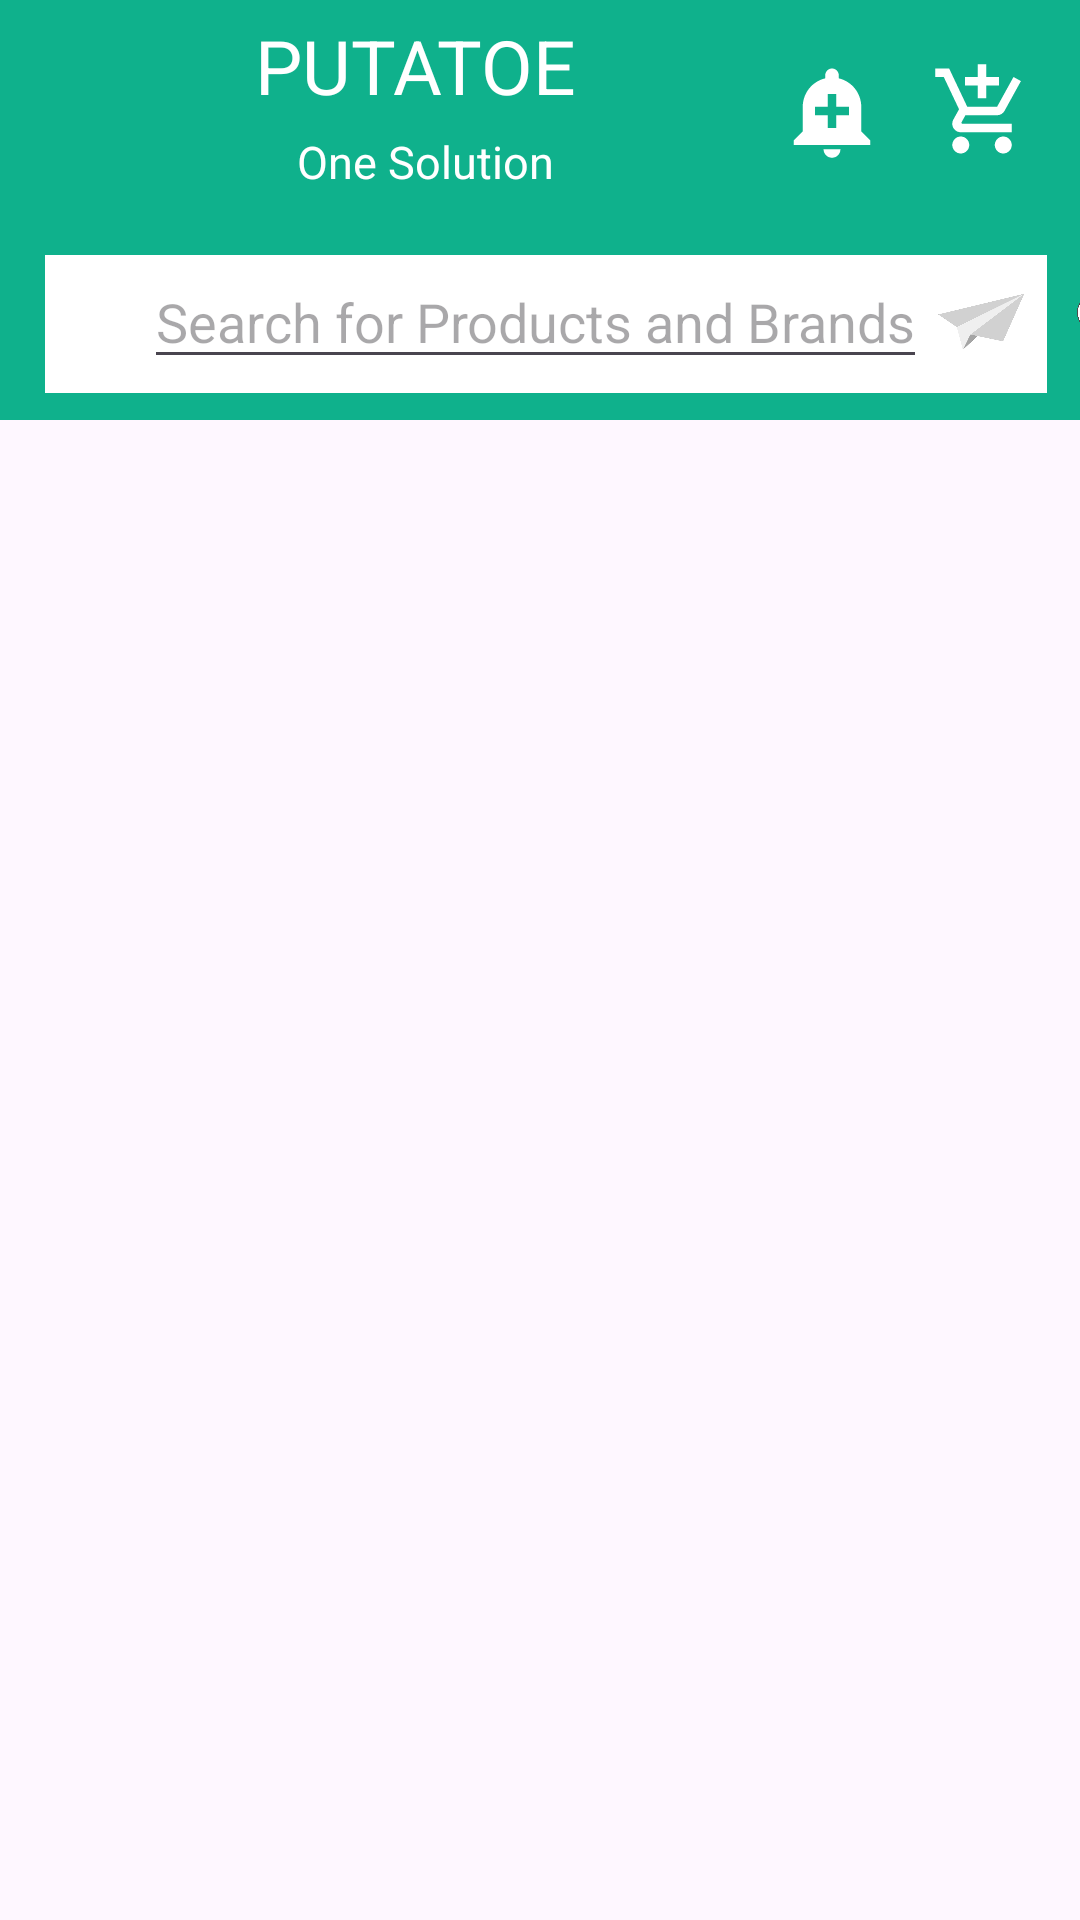

Named icons in this screenshot (1080w x 1920h) and their centers, point (x, y):
add alert: point (832, 113)
add shopping cart: point (978, 109)
send: point (981, 321)
